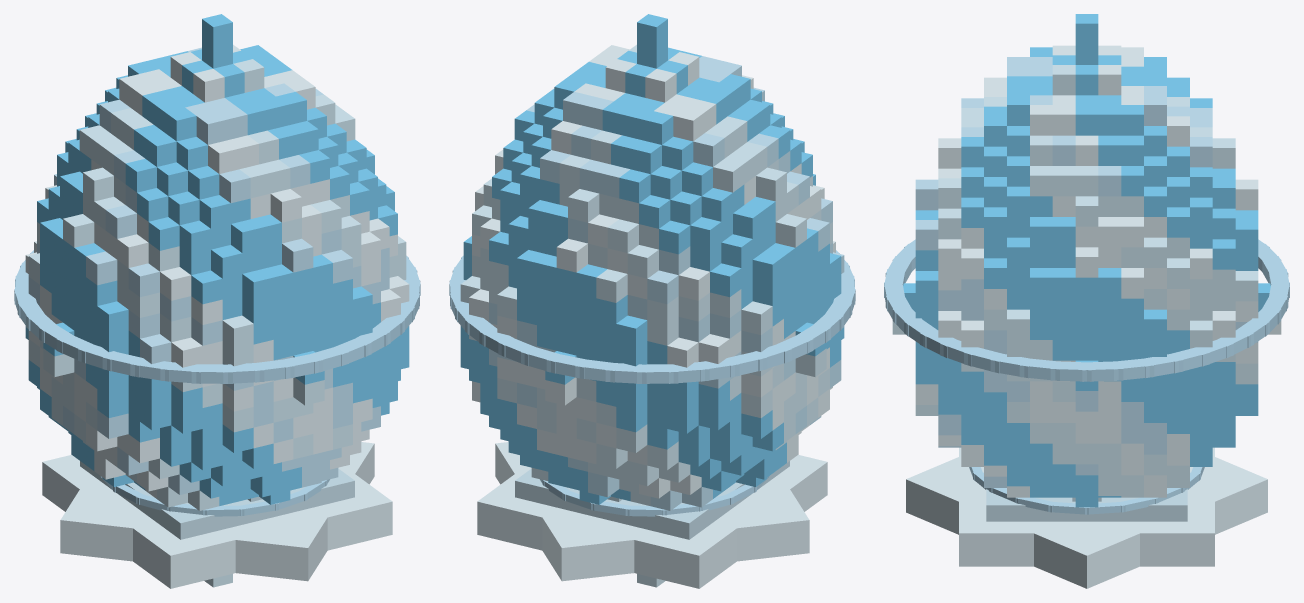
The model's file is egg_pc_escarcha.glb.
The picture shows the model from 3 angles, left to right: view 1: azimuth 30°, elevation 25°; view 2: azimuth 150°, elevation 25°; view 3: azimuth 270°, elevation 25°; orthographic projection.
Visible parts, largest first — view 1: shell_geo, root_geo, egg_geo; view 2: shell_geo, root_geo, egg_geo; view 3: shell_geo, root_geo, egg_geo.
Part boxes in pixels (x1,y1,x2,y2): shell_geo: (25, 14, 409, 587); root_geo: (42, 442, 392, 588); egg_geo: (14, 250, 420, 383); shell_geo: (460, 14, 844, 587); root_geo: (477, 442, 827, 588); egg_geo: (449, 250, 855, 383); shell_geo: (892, 14, 1281, 507); root_geo: (906, 447, 1267, 588); egg_geo: (884, 239, 1289, 381).
Size of the model in its own units: 4.44 by 6.75 by 4.44.
